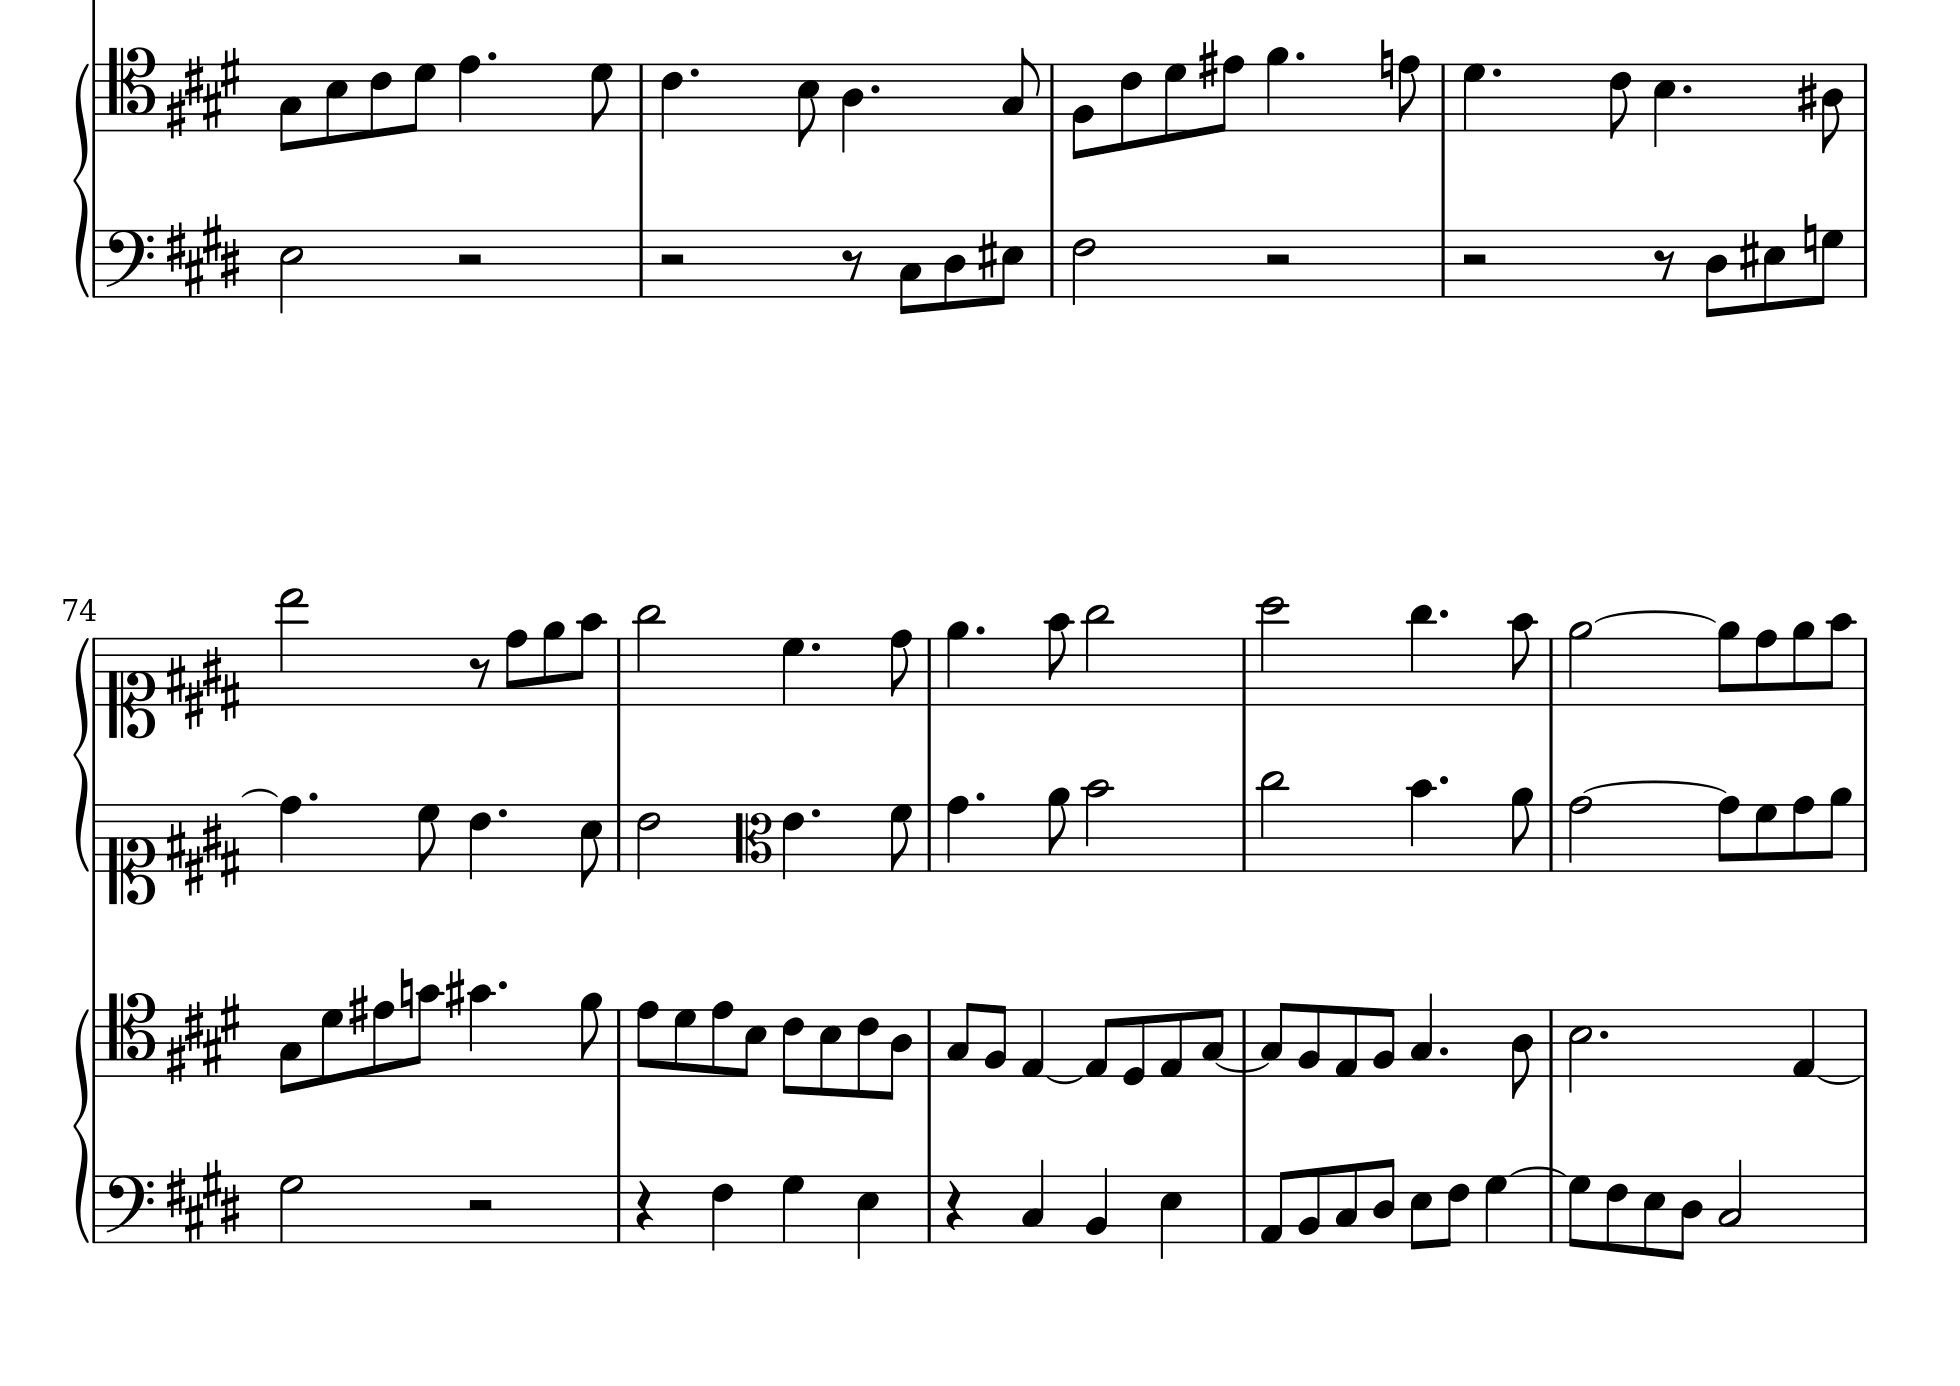2_10: (1083, 777, 1113, 873)
2_11: (1083, 601, 1113, 706), (633, 601, 663, 705), (1257, 769, 1287, 873)
2_12: (1257, 592, 1290, 706)
2_13: (274, 585, 307, 706)
2_3: (1717, 1156, 1744, 1243)
2_5: (277, 228, 304, 310), (1567, 1006, 1593, 1093)
2_6: (636, 802, 660, 879), (1071, 229, 1095, 304)
2_7: (277, 1173, 303, 1242)
2_8: (1567, 793, 1593, 873)
2_9: (1566, 618, 1591, 706)
4: (79, 595, 97, 624)
4_1: (1791, 1006, 1816, 1078)
4_10: (1408, 777, 1434, 874)
4_2: (1086, 1165, 1111, 1243)
4_3: (1021, 1159, 1047, 1243), (1410, 993, 1434, 1077)
4_4: (840, 61, 864, 154)
4_5: (1158, 1171, 1183, 1260), (1653, 61, 1677, 148), (855, 1174, 879, 1261)
4_6: (709, 1173, 733, 1252), (781, 801, 805, 879), (660, 61, 682, 139), (468, 802, 490, 880)
4_7: (1461, 61, 1488, 130), (780, 1173, 805, 1243), (1483, 1173, 1509, 1243), (781, 636, 805, 706)
4_8: (943, 793, 969, 871), (277, 793, 301, 874), (457, 52, 480, 132)
4_9: (1266, 43, 1290, 133), (945, 618, 969, 706)
7: (61, 594, 78, 622)
8_0: (1122, 1006, 1147, 1087)
8_1: (1083, 1006, 1116, 1078), (1260, 1168, 1290, 1243), (1333, 1003, 1360, 1078), (1021, 1006, 1048, 1078), (1159, 1006, 1185, 1077)
8_10: (1824, 610, 1855, 706), (574, 610, 604, 706), (409, 982, 439, 1078), (1510, 610, 1537, 706), (466, 984, 493, 1078), (1047, 610, 1072, 706)
8_11: (1408, 601, 1434, 706)
8_2: (1071, 61, 1096, 160), (1296, 1165, 1321, 1243), (1297, 1002, 1323, 1078), (984, 1002, 1008, 1078), (1371, 1005, 1395, 1077)
8_3: (1000, 46, 1038, 133), (277, 61, 303, 153), (277, 1006, 303, 1096), (946, 1000, 976, 1077), (1260, 1000, 1290, 1077), (898, 228, 922, 316), (1335, 1161, 1359, 1243), (1200, 1006, 1225, 1077)
8_4: (883, 1006, 913, 1101), (1674, 1173, 1704, 1261), (1509, 1006, 1534, 1099), (1704, 228, 1729, 319), (1821, 61, 1845, 153), (942, 226, 967, 310), (1372, 1156, 1396, 1243)
8_5: (993, 226, 1026, 304), (795, 61, 820, 148), (1761, 226, 1786, 313), (817, 1006, 841, 1098), (577, 802, 603, 888), (1641, 1171, 1666, 1257), (738, 1006, 766, 1078), (324, 61, 348, 145), (1408, 1173, 1434, 1251)
8_6: (1440, 1173, 1471, 1248), (855, 1006, 879, 1099), (1119, 61, 1143, 151), (781, 1006, 805, 1096), (367, 61, 393, 139), (1608, 61, 1633, 139), (1605, 1171, 1629, 1252)
8_7: (405, 61, 436, 133), (1815, 228, 1843, 306), (1162, 60, 1188, 142), (1566, 1173, 1591, 1249), (319, 1006, 343, 1084), (673, 1006, 697, 1078), (1755, 802, 1779, 873), (589, 61, 613, 130), (415, 802, 439, 871), (889, 802, 913, 871)
8_8: (1213, 52, 1245, 135), (1396, 54, 1422, 133), (1716, 793, 1741, 873), (634, 999, 660, 1078), (1791, 793, 1815, 874), (889, 627, 913, 706), (370, 999, 394, 1078), (709, 999, 733, 1078), (504, 628, 528, 706), (1755, 628, 1779, 706)
8_9: (1822, 786, 1854, 874), (1509, 786, 1534, 873), (577, 991, 603, 1078), (541, 619, 565, 706), (1716, 619, 1740, 706), (1791, 619, 1815, 706), (1047, 786, 1071, 871)
Brace: (70, 60, 91, 297), (70, 1006, 91, 1243), (72, 634, 91, 874)
Cclef: (733, 802, 772, 871)
E_S: (163, 43, 243, 139), (162, 991, 241, 1084), (163, 810, 244, 895), (163, 210, 241, 297), (163, 1156, 241, 1243), (165, 645, 243, 729)
Fclef: (103, 226, 153, 298), (103, 1171, 153, 1243)
Natural: (397, 966, 415, 1021), (1378, 37, 1395, 91), (1801, 213, 1818, 265)
Rests2: (1458, 250, 1489, 268), (465, 1195, 496, 1213), (655, 250, 687, 267), (454, 250, 484, 267), (1263, 250, 1293, 267)
Rests4: (633, 1177, 655, 1234), (943, 1177, 964, 1233)
Rests8: (841, 246, 865, 280), (1653, 246, 1677, 280), (469, 654, 490, 688)
Sharp: (1737, 228, 1761, 282), (1795, 70, 1818, 126), (346, 982, 369, 1036), (976, 228, 999, 280), (444, 966, 465, 1021), (1197, 37, 1218, 91)
Single_barline: (1236, 637, 1254, 705), (631, 229, 649, 295), (1236, 804, 1254, 870), (922, 637, 939, 705), (921, 802, 937, 870), (610, 1009, 627, 1077), (634, 64, 651, 130), (1435, 229, 1452, 295), (610, 637, 627, 703), (1543, 637, 1560, 703), (610, 802, 627, 868), (921, 1174, 937, 1240), (610, 1174, 627, 1240), (1543, 804, 1560, 868), (1236, 1008, 1252, 1072), (1857, 1176, 1873, 1240), (1858, 61, 1873, 130), (1858, 636, 1873, 705), (88, 802, 103, 871), (88, 1008, 103, 1077), (1237, 1173, 1252, 1242), (88, 63, 103, 130), (922, 1008, 937, 1075), (1545, 1176, 1560, 1243), (1044, 64, 1059, 130), (1437, 64, 1452, 130), (1545, 1009, 1560, 1075), (1044, 229, 1059, 294), (1858, 229, 1872, 297), (88, 637, 102, 705), (1858, 804, 1872, 871), (88, 1174, 102, 1242), (88, 229, 102, 295)
Slur: (1594, 607, 1719, 622), (1510, 1164, 1564, 1176), (1215, 1060, 1272, 1071), (241, 787, 279, 799), (1818, 1075, 1863, 1084), (1047, 1074, 1084, 1084)
Soprano_Cclef: (106, 801, 154, 904), (106, 636, 153, 738)
Tensor_Cclef: (106, 45, 156, 130), (106, 990, 156, 1075)
dot: (973, 622, 990, 639), (1437, 604, 1452, 621), (973, 787, 988, 804), (808, 804, 823, 820), (687, 64, 702, 79), (1437, 772, 1452, 787), (867, 81, 882, 94), (1680, 81, 1695, 94), (495, 976, 508, 991), (1597, 1026, 1611, 1041), (484, 48, 498, 61), (1293, 48, 1306, 61), (808, 639, 822, 652), (306, 789, 319, 802), (495, 805, 508, 819), (1491, 64, 1503, 79), (1437, 1042, 1449, 1056)
